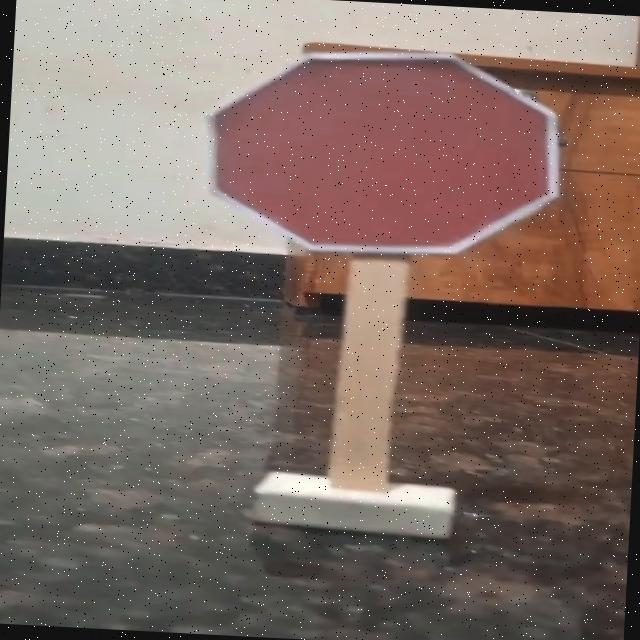Stop: (162, 17, 588, 280)
